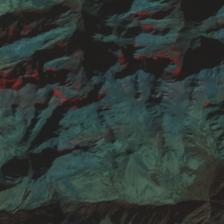landslides: (197, 186, 204, 201)
